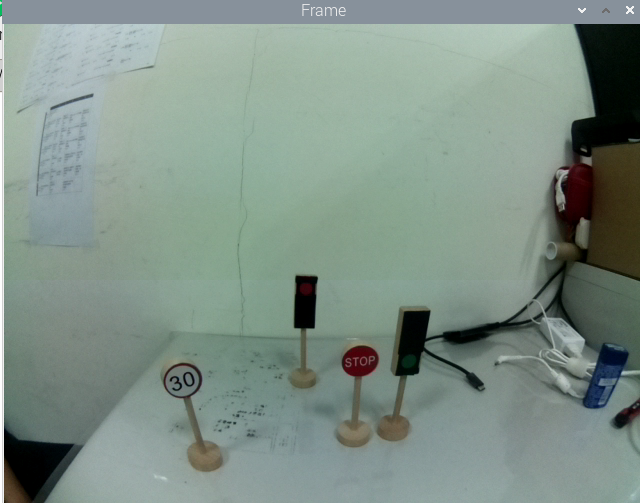Green: (390, 300, 431, 381)
Red: (292, 271, 318, 333)
Speed30: (158, 357, 206, 401)
Stop: (340, 344, 381, 382)
